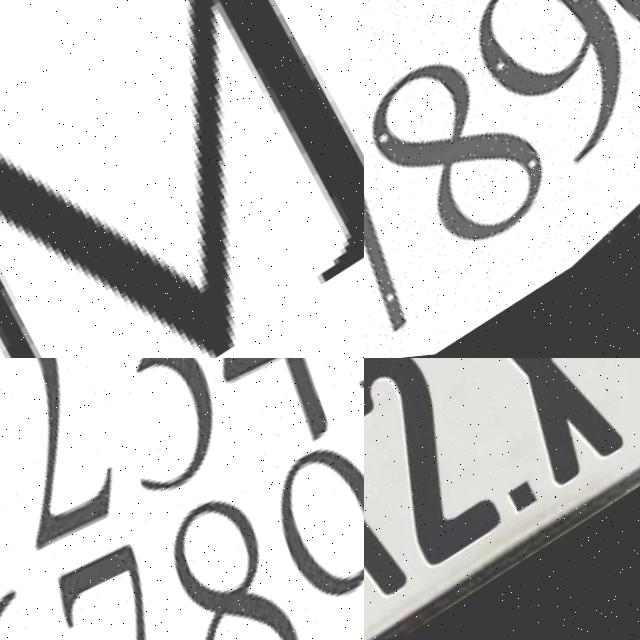0: (536, 0, 640, 118)
1: (0, 358, 42, 620), (536, 358, 640, 456)
2: (0, 358, 174, 584), (364, 358, 522, 589)
3: (28, 358, 278, 533)
4: (131, 358, 364, 504)
7: (364, 103, 488, 358), (4, 516, 259, 640)
8: (364, 16, 589, 307), (115, 466, 364, 640)
9: (437, 0, 640, 210), (223, 416, 364, 640)
A: (364, 381, 427, 640)
M: (0, 0, 364, 358)
X: (449, 358, 640, 509)
